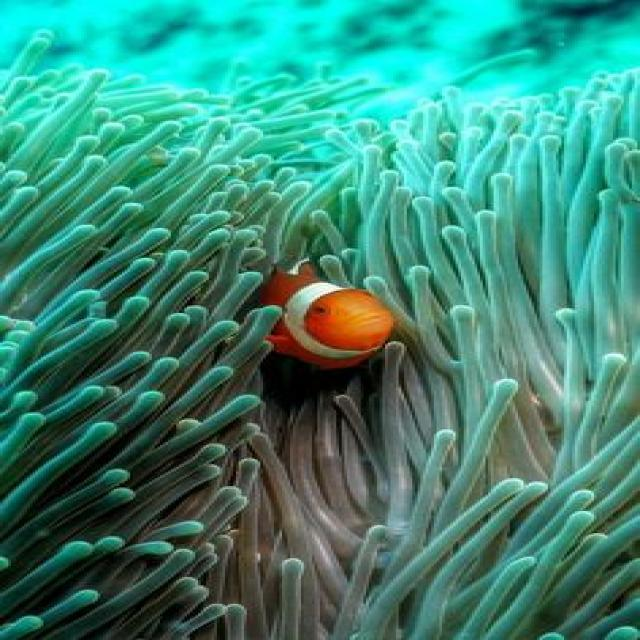ClownFish: (257, 259, 394, 370)
